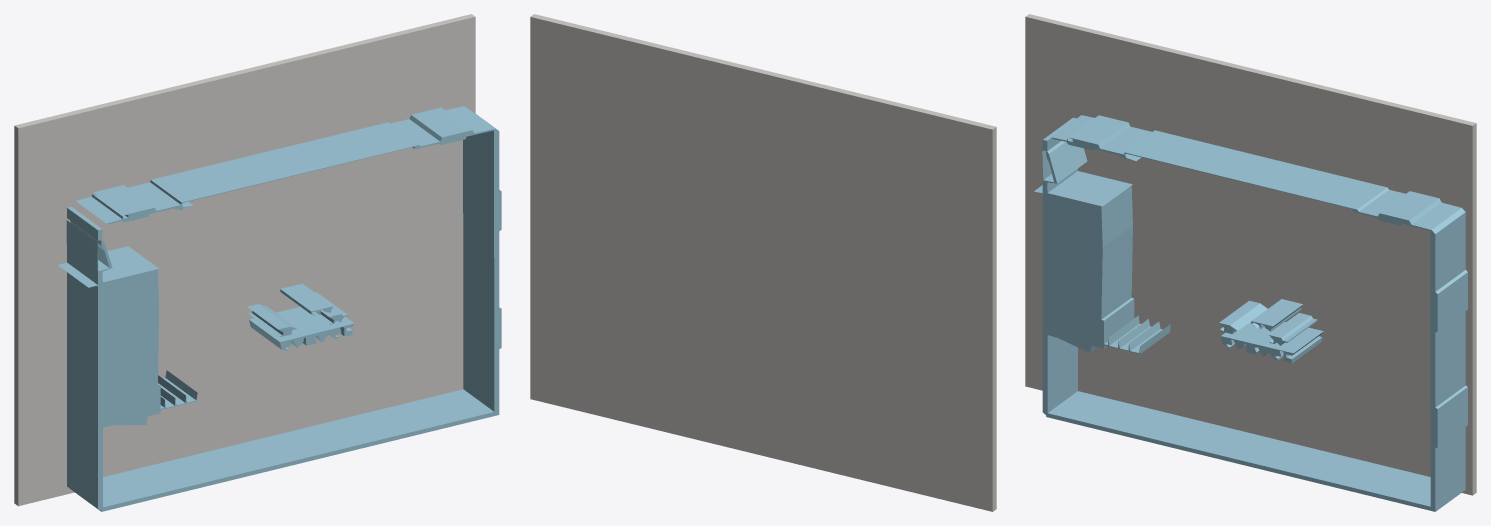
3 renders of one model, left to right at view 1: azimuth 30°, elevation 25°; view 2: azimuth 150°, elevation 25°; view 3: azimuth 330°, elevation 25°, orthographic. The views are drawn at different scales.
Visible parts, largest first — view 1: world; view 2: world; view 3: world.
Boxes of the visible parts, x1,y1,x2,y2 form: world: [14, 14, 501, 511]; world: [530, 14, 996, 511]; world: [1025, 14, 1476, 511].
Bounding box in the file's own units: 10.23 × 8.08 × 1.35.
